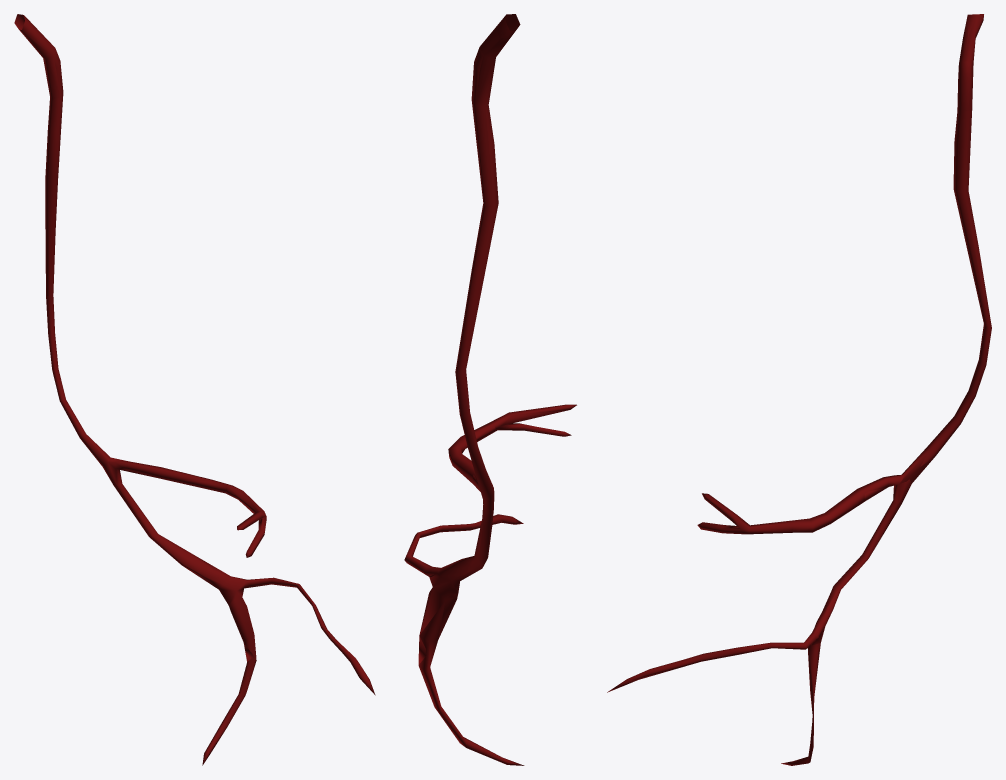
Rendered from L digitales lateralis.fbx.
3 views of the same model, side by side, from view 1: azimuth 30°, elevation 25°; view 2: azimuth 150°, elevation 25°; view 3: azimuth 270°, elevation 25° (orthographic). The views are drawn at different scales.
Parts seen in each view (by area): view 1: L digitales lateralis, L digitales lateralis low; view 2: L digitales lateralis, L digitales lateralis low; view 3: L digitales lateralis, L digitales lateralis low.
Boxes of the visible parts, x1,y1,x2,y2 form: L digitales lateralis: [14, 14, 375, 765]; L digitales lateralis low: [14, 14, 366, 690]; L digitales lateralis: [404, 14, 576, 765]; L digitales lateralis low: [418, 14, 568, 755]; L digitales lateralis: [607, 14, 991, 765]; L digitales lateralis low: [624, 14, 990, 713].
Bounding box in the file's own units: 2.71 × 9.96 × 4.91.
